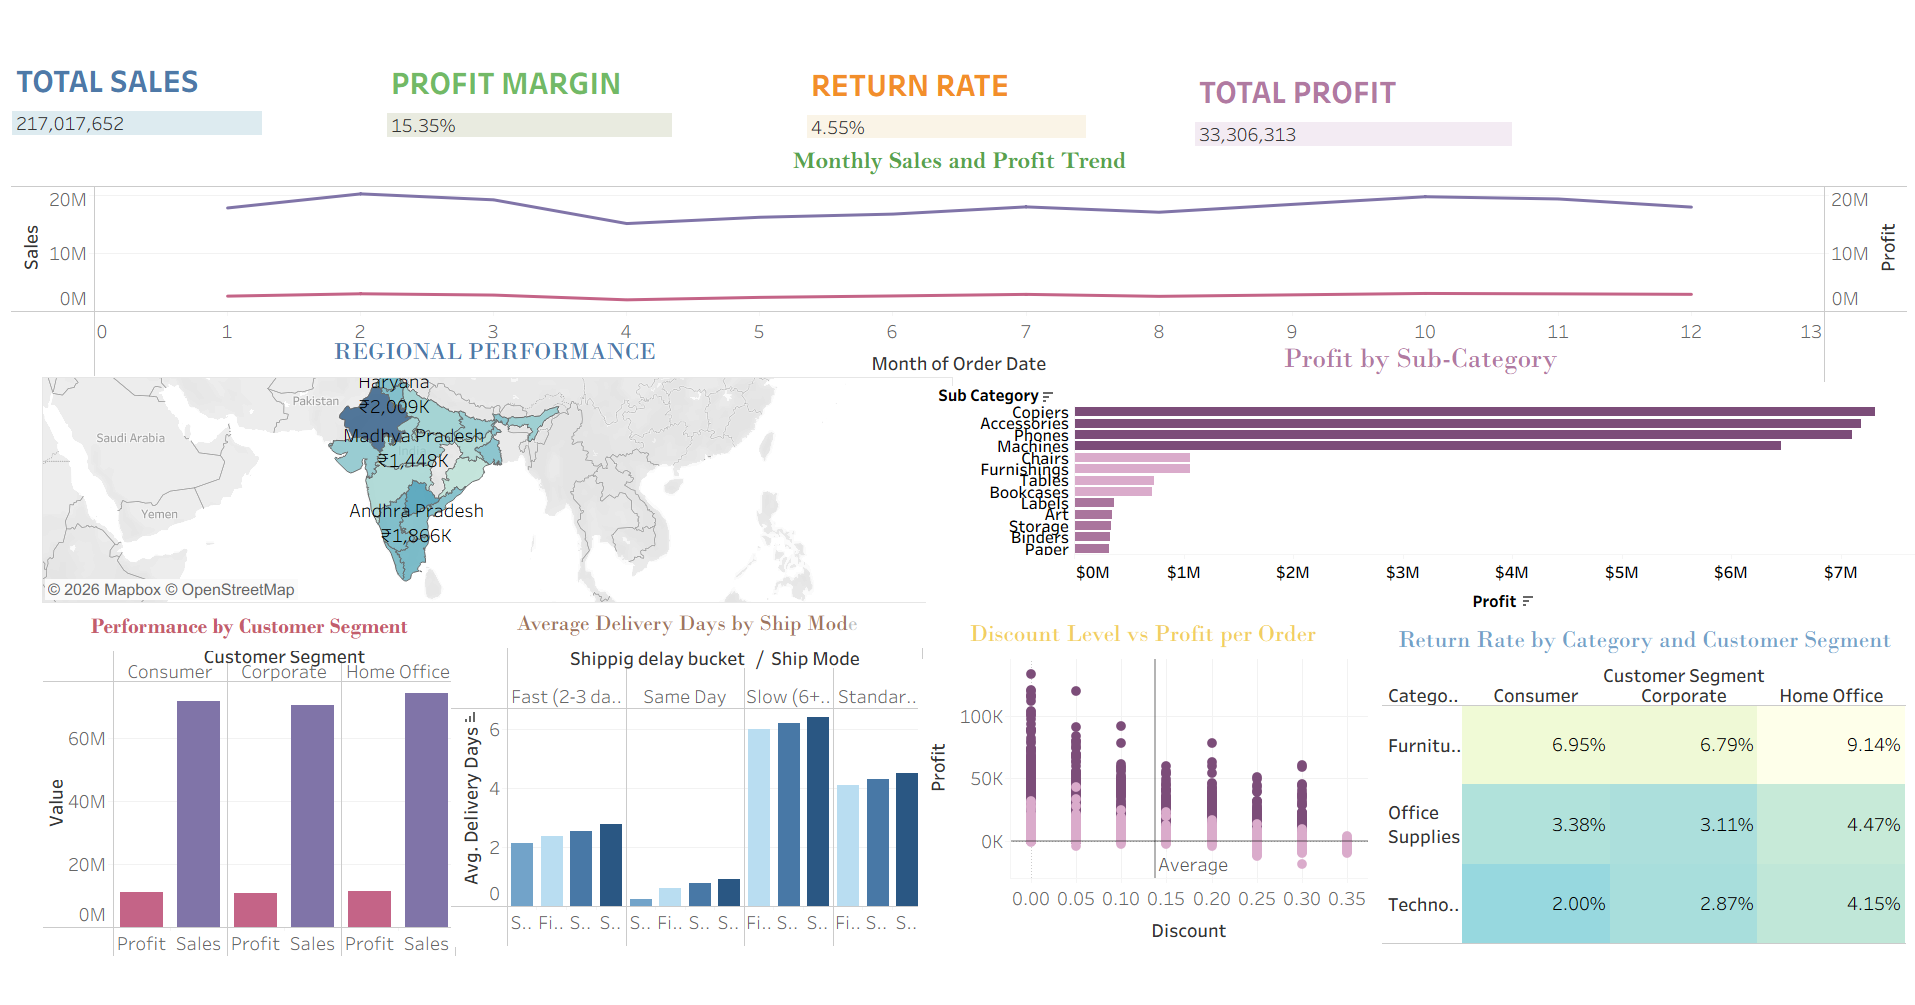

This screenshot's page, from the dashboard's own definition file:
{"tool":"tableau","page":{"name":"Executive Dashboard","canvas":[1900,900],"ordinal":0},"visuals":[{"type":"worksheet","title":"Sheet 8","mark":"Automatic","box":[4.8,6,250.6,80]},{"type":"worksheet","title":"Sheet 9","mark":"Automatic","box":[380,8,285,80]},{"type":"worksheet","title":"Sheet 10","mark":"Automatic","box":[800,10,279,79]},{"type":"worksheet","title":"Sheet 11","mark":"Automatic","box":[1188,17,317,80]},{"type":"worksheet","title":"Sales trend","mark":"Line","rows":["sales","profit"],"cols":["order_date"],"box":[4,94,1897,240]},{"type":"worksheet","title":"Regional Performance","mark":"Automatic","box":[35,284,911,270]},{"type":"worksheet","title":"Category Profitability","mark":"Automatic","rows":["sub_category"],"cols":["profit"],"box":[919,288,989,282]},{"type":"worksheet","title":" Shipping Performance","mark":"Automatic","rows":["delivery_days"],"cols":["Calculation_0081380779438080","ship_mode"],"box":[444,557,472,341]},{"type":"worksheet","title":"Discount vs Profit","mark":"Automatic","rows":["profit"],"cols":["discount"],"box":[911,566,450,334]},{"type":"worksheet","title":"Return Analysis","mark":"Square","rows":["category"],"cols":["customer_segment"],"box":[1375,572,525,323]}]}

Visuals, with their boxes on the page's 1900x900 design canvas (x1, y1, x2, y2). These are canvas units, not pixel positions in the 1915x1005 screenshot, which may show the page scaled, cropped or inside an application window:
"Sheet 8" worksheet: (x1=5, y1=6, x2=255, y2=86)
"Sheet 9" worksheet: (x1=380, y1=8, x2=665, y2=88)
"Sheet 10" worksheet: (x1=800, y1=10, x2=1079, y2=89)
"Sheet 11" worksheet: (x1=1188, y1=17, x2=1505, y2=97)
"Sales trend" worksheet (Line marks): (x1=4, y1=94, x2=1901, y2=334)
"Regional Performance" worksheet: (x1=35, y1=284, x2=946, y2=554)
"Category Profitability" worksheet: (x1=919, y1=288, x2=1908, y2=570)
" Shipping Performance" worksheet: (x1=444, y1=557, x2=916, y2=898)
"Discount vs Profit" worksheet: (x1=911, y1=566, x2=1361, y2=900)
"Return Analysis" worksheet (Square marks): (x1=1375, y1=572, x2=1900, y2=895)
